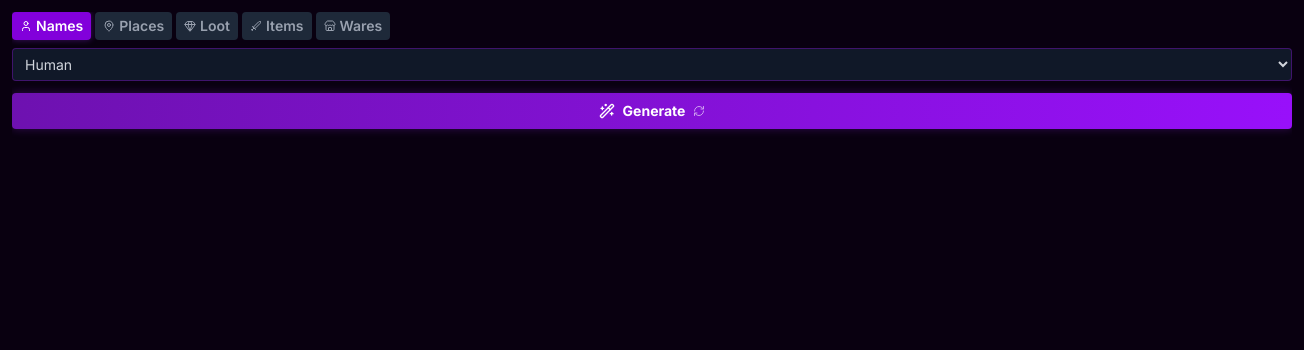
OracleWidget — Wares tab › folds a previous wares roll into one condensed history line
This screenshot has width=1304, height=350.
Click the button "Wares" at (353, 26), box [316,12,390,40]
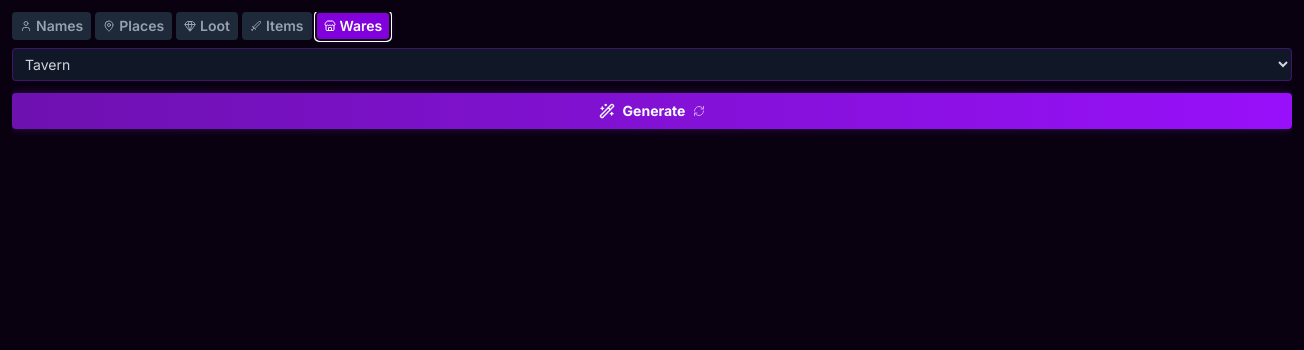
// Two rolls so the first one drops into "Previous Results".
Click the button "Generate" at (652, 111), box [12,93,1292,129]
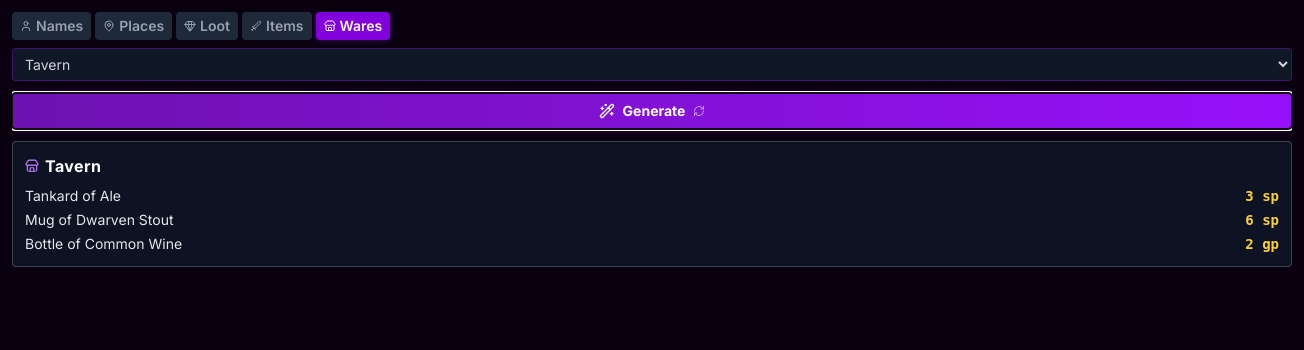
Click the button "Generate" at (652, 111), box [12,93,1292,129]
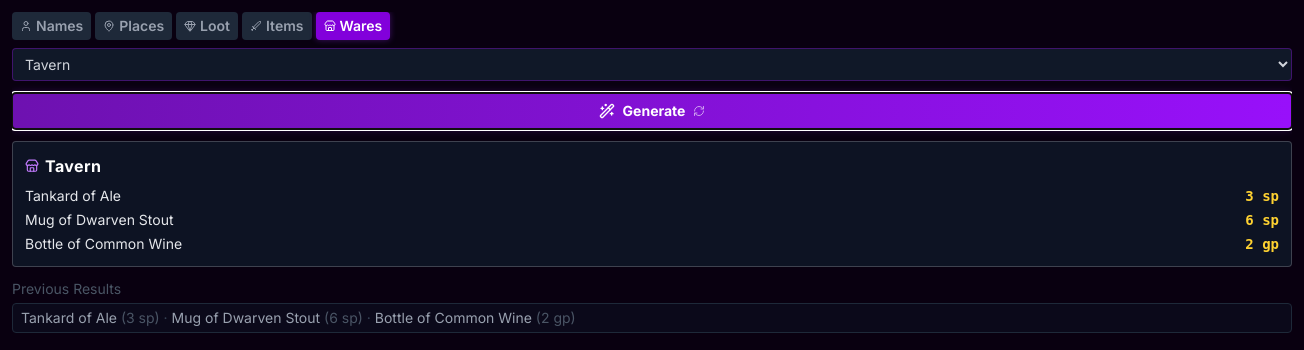
Expected: the text "Tankard of Ale" shows "·", [160,309,172,326]
Now the text "Previous Results" is shown, box [12,280,121,297]
